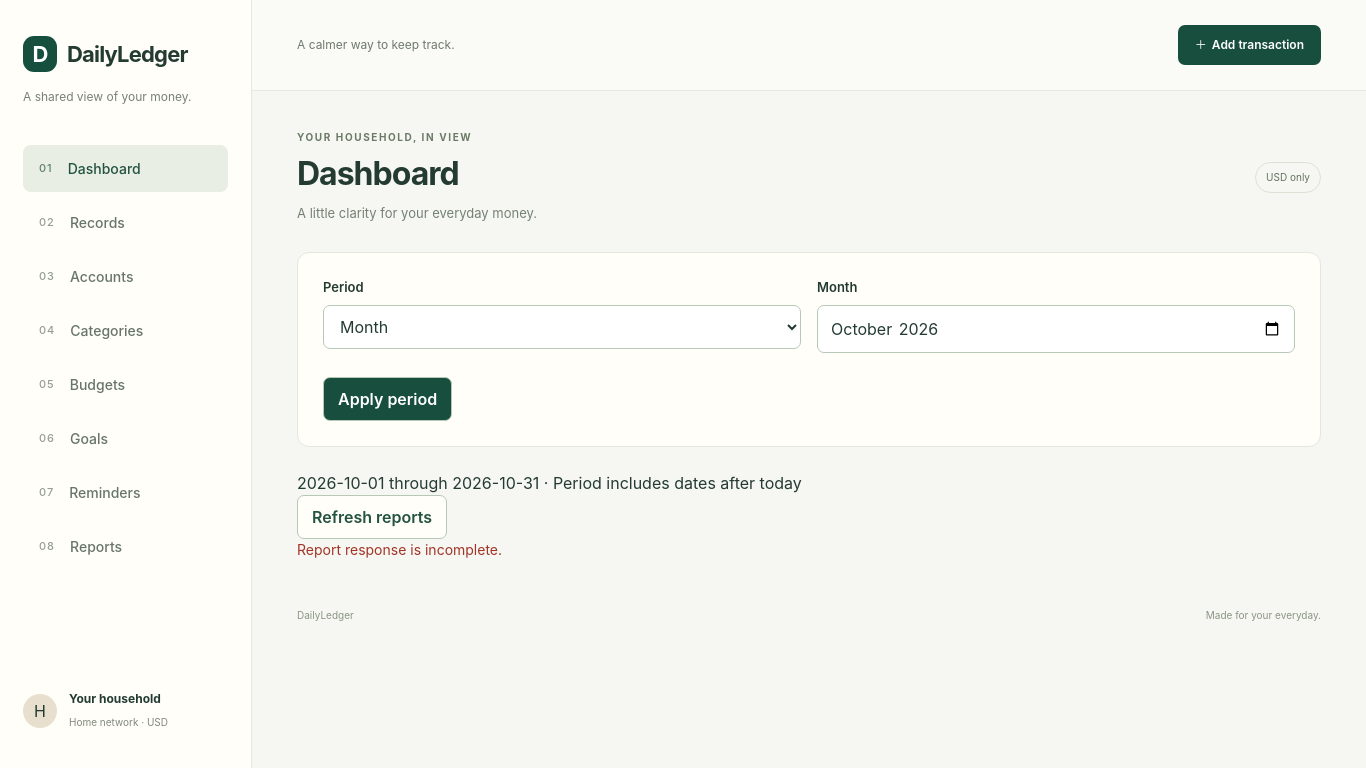
it: Foundation: accessible navigation without fake records › switches to the Records sheet and shows the real (empty) records state
This screenshot has width=1366, height=768.
Click the link "02 Records". click: {"x": 82, "y": 222}
box: [39,214,125,231]
(page scrolled)
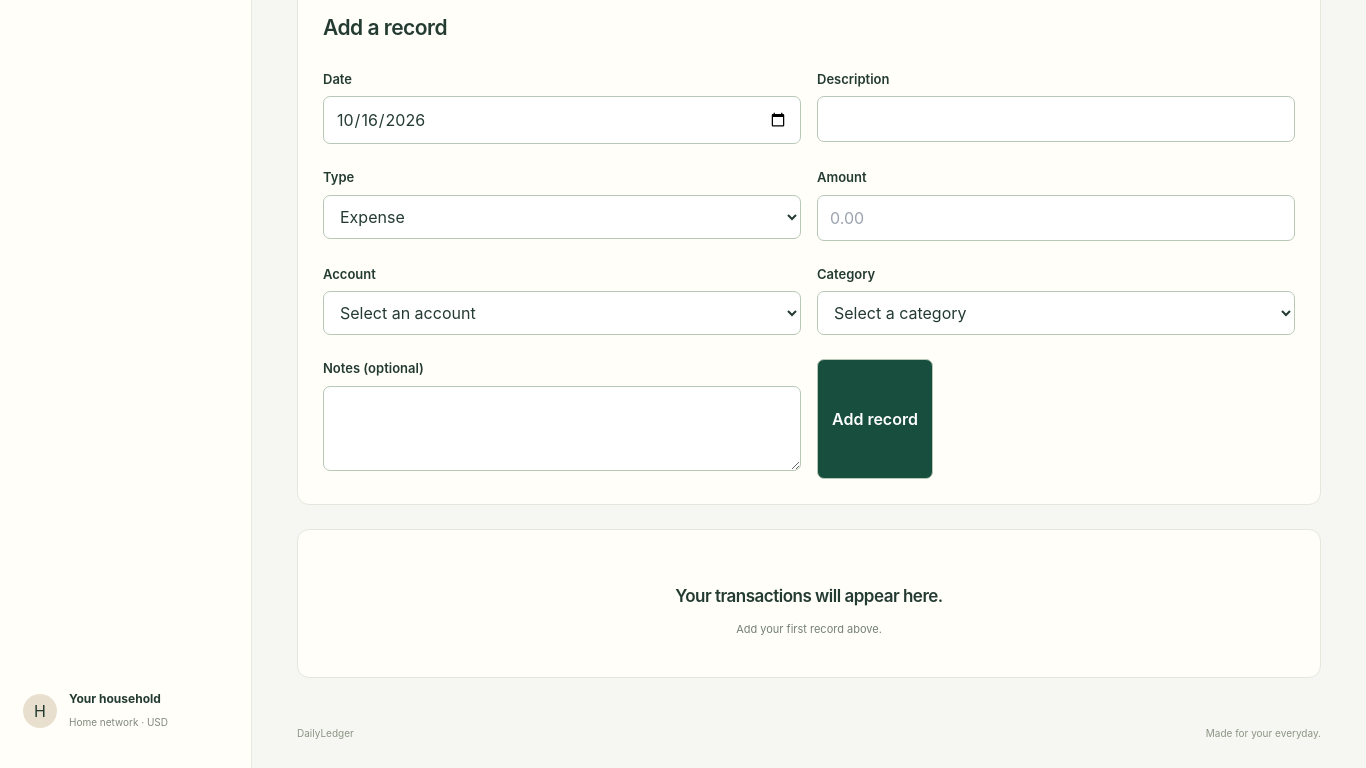
Expected: the heading "Your transactions will appear here." is shown, [675,586,943,606]
